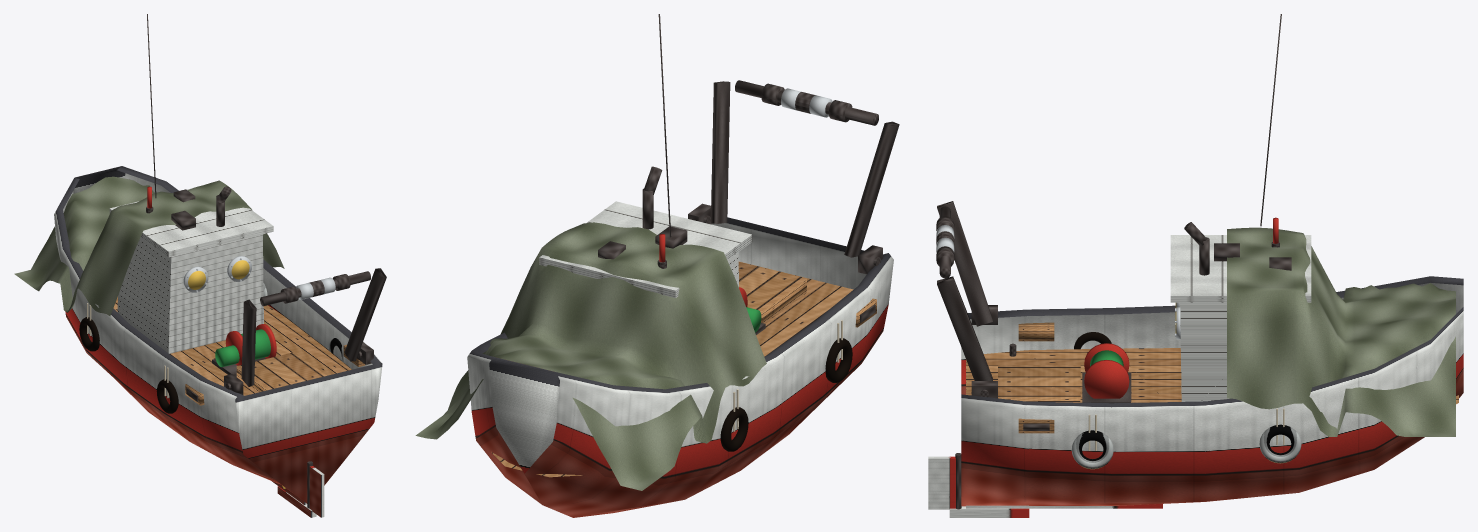
The model's file is fishing_boat.glb.
3 views of the same model, side by side, from view 1: azimuth 30°, elevation 25°; view 2: azimuth 150°, elevation 25°; view 3: azimuth 270°, elevation 25° (orthographic). The views are drawn at different scales.
Parts seen in each view (by area): view 1: Hull, Canvas_Tarp, Cabin, Deck, Cabin_Roof, Cargo_Hatch_Wood, Gantry_Arm_Starboard, Gantry_Arm_Port, Rudder_Blade, Buoy_Port_Aft, Gantry_Crossbar, Buoy_Port_Fwd (+1 smaller); view 2: Hull, Canvas_Tarp, Cabin_Roof, Deck, Cargo_Hatch_Wood, Gantry_Arm_Starboard, Gantry_Arm_Port, Gantry_Crossbar, Buoy_Port_Fwd, Buoy_Port_Aft; view 3: Hull, Canvas_Tarp, Deck, Cabin, Cabin_Roof, Cargo_Hatch_Wood, Gantry_Arm_Starboard, Gantry_Arm_Port, Rudder_Blade, Winch_Bracket_0.26, Buoy_Stbd_Aft, Buoy_Stbd_Fwd (+3 smaller).
Part boxes in pixels (x1,y1,x2,y2): Hull: [54, 166, 382, 503]; Canvas_Tarp: [14, 176, 284, 316]; Cabin: [117, 234, 263, 353]; Deck: [113, 296, 351, 395]; Cabin_Roof: [109, 188, 273, 257]; Cargo_Hatch_Wood: [236, 352, 326, 392]; Gantry_Arm_Starboard: [344, 268, 386, 361]; Gantry_Arm_Port: [241, 299, 256, 386]; Rudder_Blade: [309, 466, 324, 517]; Buoy_Port_Aft: [156, 379, 178, 413]; Gantry_Crossbar: [260, 271, 370, 306]; Buoy_Port_Fwd: [79, 317, 99, 351]; Hull: [467, 217, 893, 517]; Canvas_Tarp: [415, 222, 766, 490]; Cabin_Roof: [539, 201, 752, 297]; Deck: [491, 261, 853, 477]; Cargo_Hatch_Wood: [738, 262, 806, 323]; Gantry_Arm_Starboard: [710, 81, 730, 223]; Gantry_Arm_Port: [844, 121, 899, 257]; Gantry_Crossbar: [735, 80, 878, 125]; Buoy_Port_Fwd: [720, 407, 748, 451]; Buoy_Port_Aft: [825, 338, 852, 382]; Hull: [961, 276, 1463, 506]; Canvas_Tarp: [1227, 227, 1455, 436]; Deck: [966, 348, 1458, 404]; Cabin: [1180, 302, 1229, 401]; Cabin_Roof: [1170, 235, 1311, 302]; Cargo_Hatch_Wood: [998, 365, 1080, 402]; Gantry_Arm_Starboard: [937, 276, 992, 380]; Gantry_Arm_Port: [937, 201, 992, 326]; Rudder_Blade: [928, 456, 955, 509]; Winch_Bracket_0.26: [1084, 360, 1129, 398]; Buoy_Stbd_Aft: [1071, 430, 1113, 469]; Buoy_Stbd_Fwd: [1259, 424, 1301, 463].
Bounding box in the file's own units: 2.63 × 5.72 × 5.7.
Materials: 13 (10 with a texture image).
